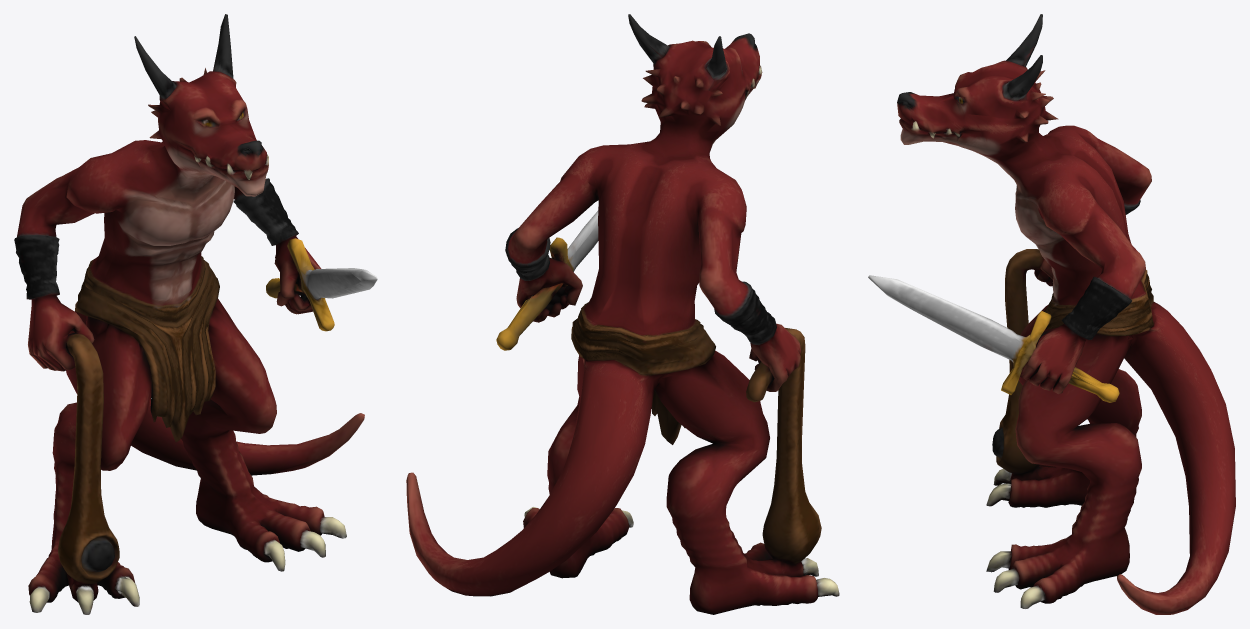
Rendered from MZ4250 - Kobold.glb.
The picture shows the model from 3 angles, left to right: view 1: azimuth 30°, elevation 25°; view 2: azimuth 150°, elevation 25°; view 3: azimuth 270°, elevation 25°; orthographic projection. The views are drawn at different scales.
Parts seen in each view (by area): view 1: Kobold_UPDATED.001; view 2: Kobold_UPDATED.001; view 3: Kobold_UPDATED.001.
Part boxes in pixels (x1=…): Kobold_UPDATED.001: x1=14, y1=14, x2=377, y2=614; Kobold_UPDATED.001: x1=406, y1=14, x2=839, y2=614; Kobold_UPDATED.001: x1=868, y1=14, x2=1235, y2=614.
Size of the model in its own units: 17.39 by 23.55 by 15.59.
Materials: 1 (1 with a texture image).
